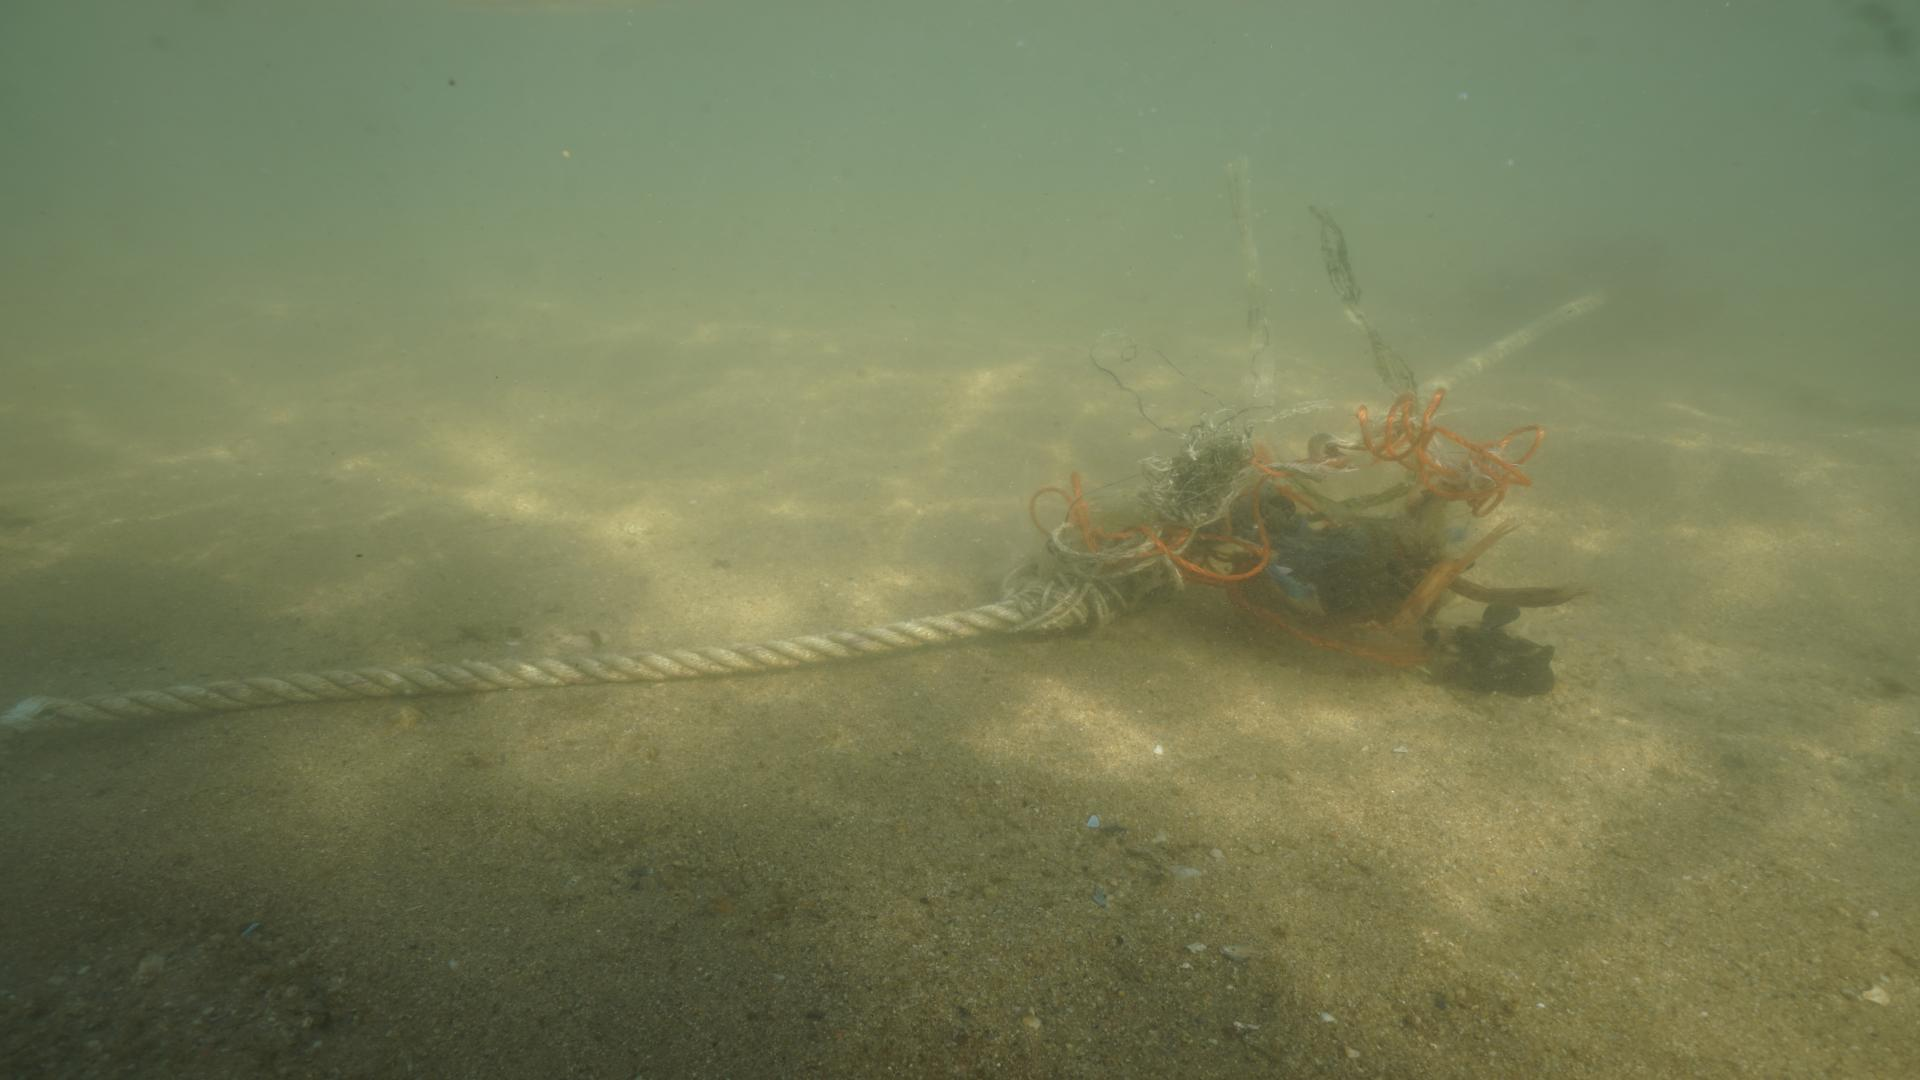rope: (0, 560, 1116, 735)
